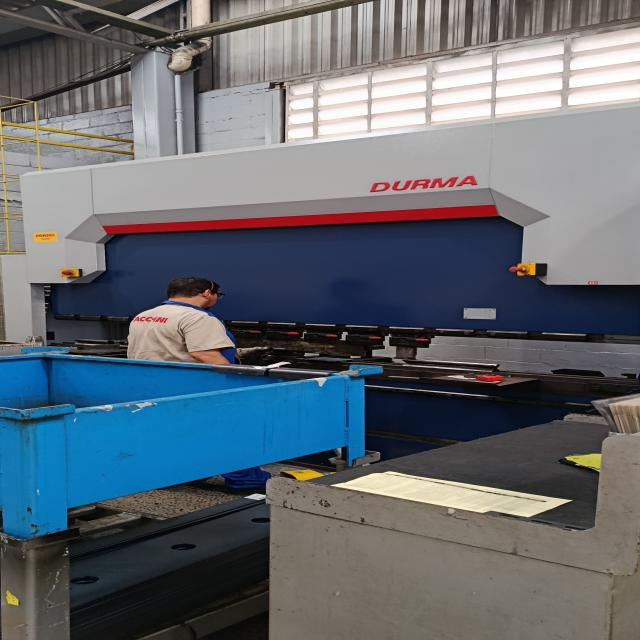oculos-epi: (211, 291, 225, 299)
